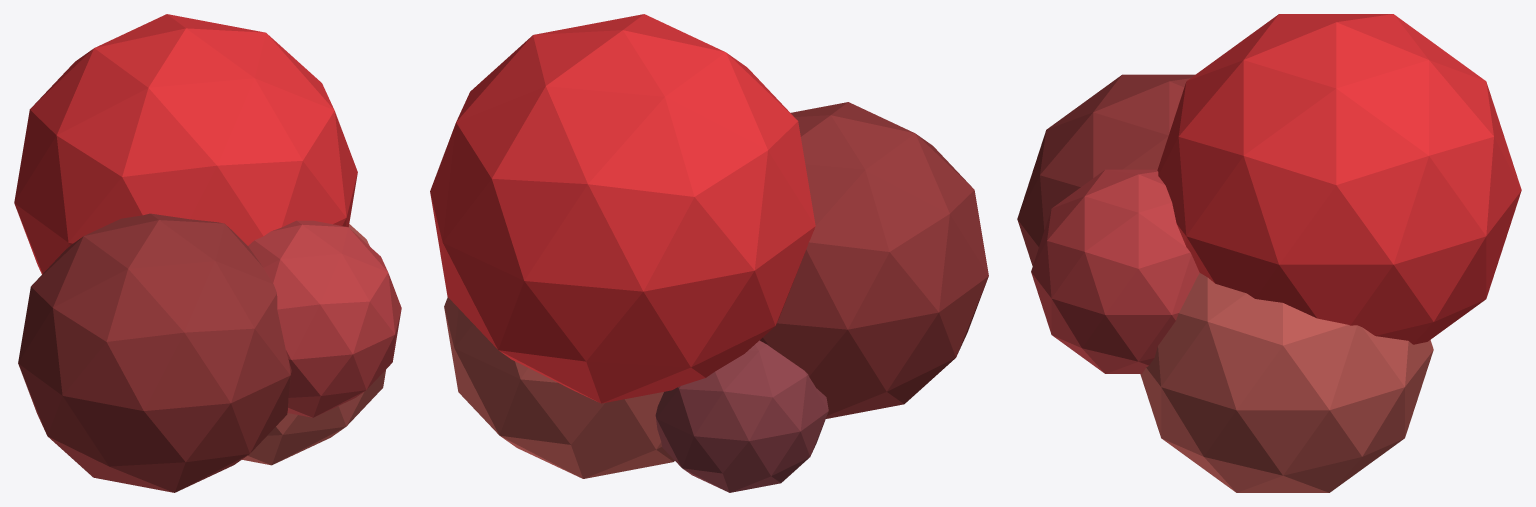
The model's file is Explosion.fbx.
The picture shows the model from 3 angles, left to right: view 1: azimuth 30°, elevation 25°; view 2: azimuth 150°, elevation 25°; view 3: azimuth 270°, elevation 25°; orthographic projection. The views are drawn at different scales.
Visible parts, largest first — view 1: Icosphere, Icosphere.003, Icosphere.001, Icosphere.002; view 2: Icosphere, Icosphere.003, Icosphere.004, Icosphere.002; view 3: Icosphere, Icosphere.002, Icosphere.001, Icosphere.003.
Boxes of the visible parts, <box> form: Icosphere: <box>14,14,357,274</box>; Icosphere.003: <box>18,213,291,492</box>; Icosphere.001: <box>248,220,401,417</box>; Icosphere.002: <box>242,224,385,465</box>; Icosphere: <box>430,14,815,403</box>; Icosphere.003: <box>759,102,988,418</box>; Icosphere.004: <box>655,340,828,492</box>; Icosphere.002: <box>444,297,674,478</box>; Icosphere: <box>1157,14,1521,344</box>; Icosphere.002: <box>1140,273,1433,492</box>; Icosphere.001: <box>1031,169,1199,373</box>; Icosphere.003: <box>1017,74,1194,265</box>.
Bounding box in the file's own units: 158 × 163 × 169.
